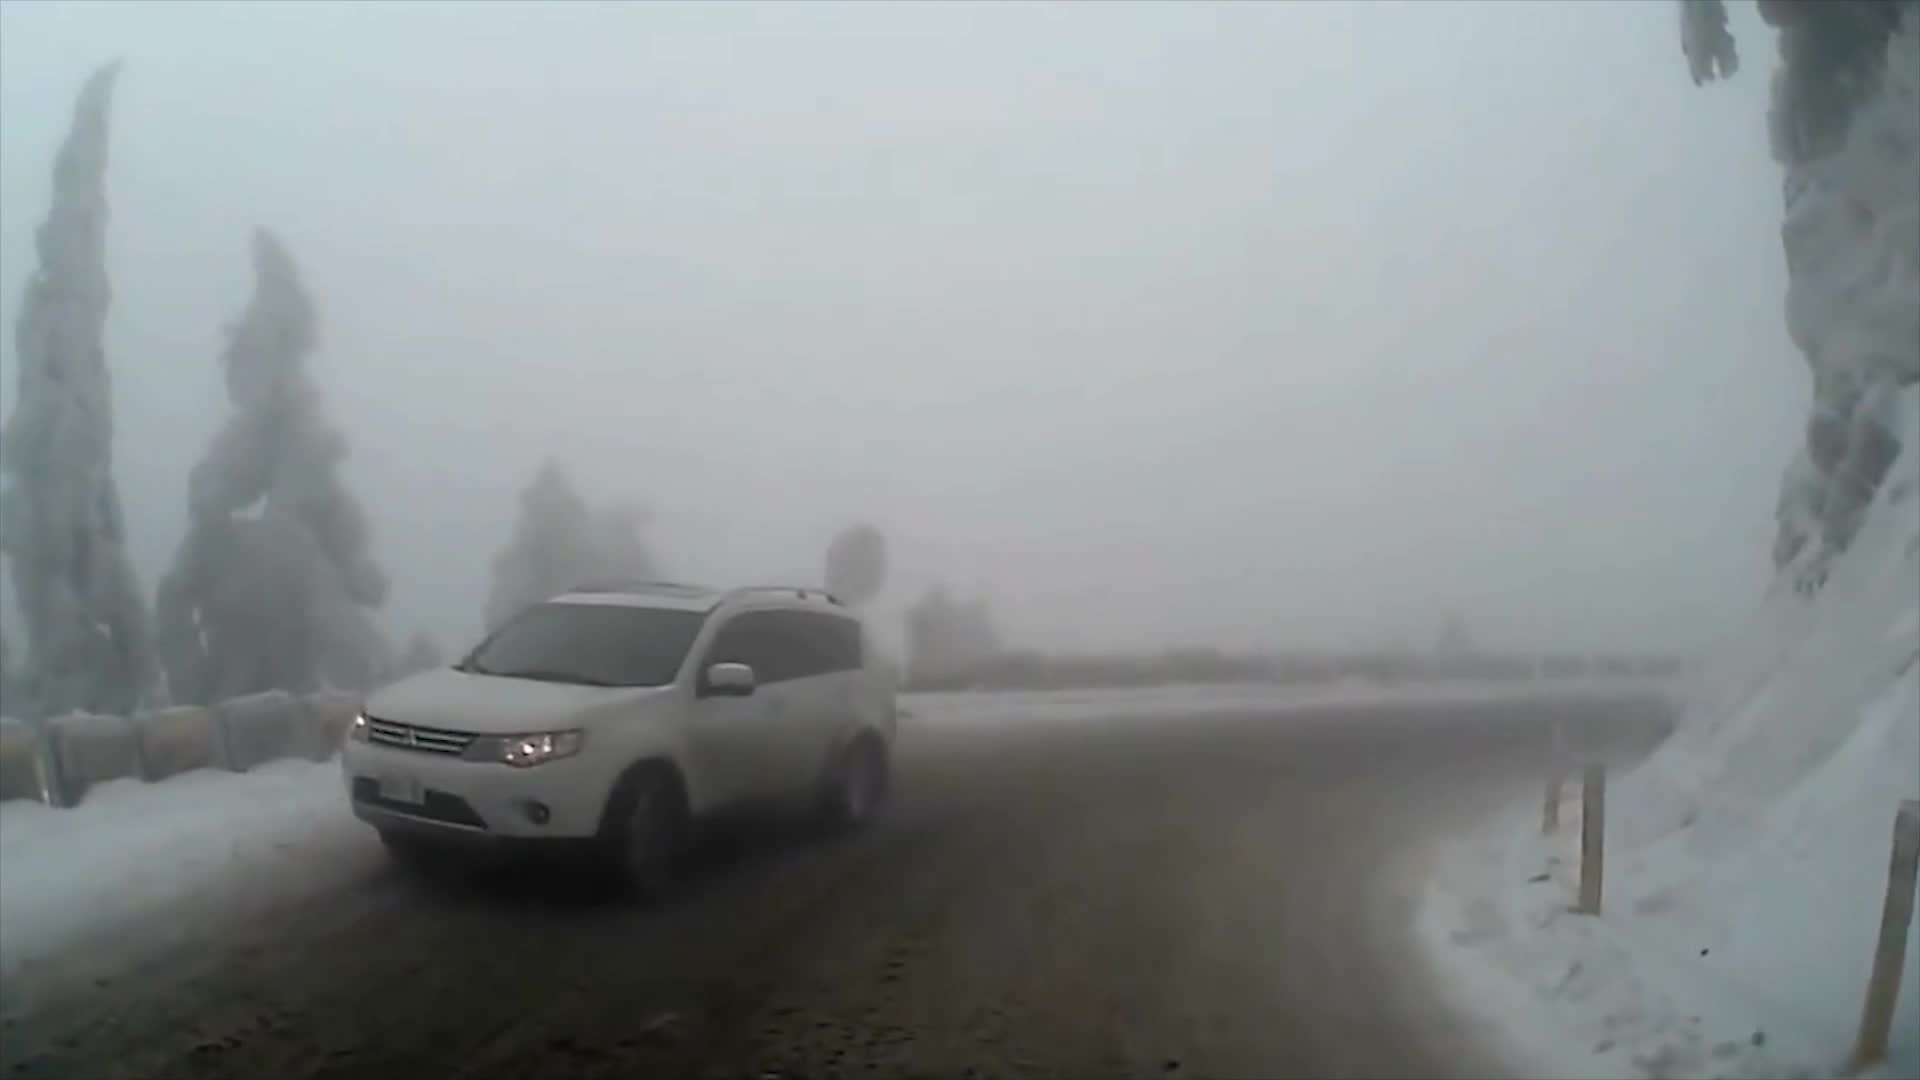vehicle: (338, 578, 899, 894)
